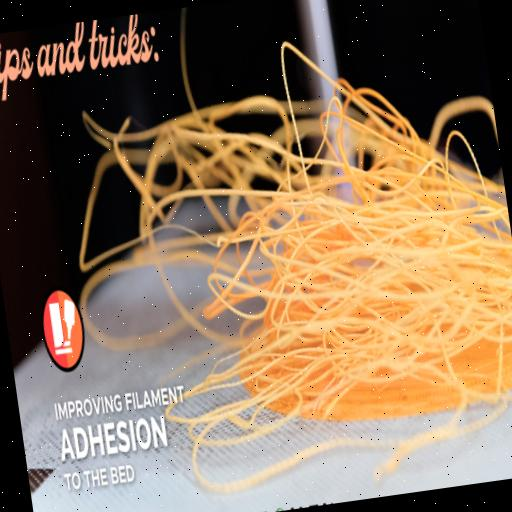spaghetti: (61, 13, 512, 488)
